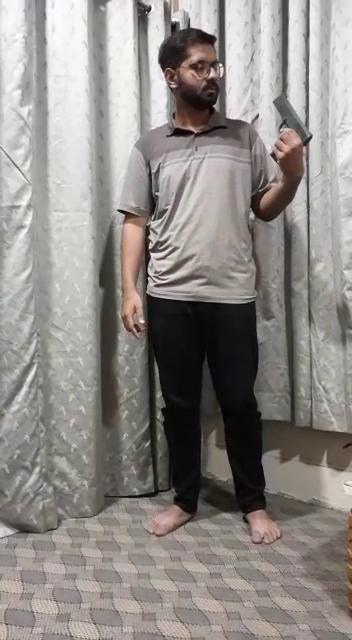criminal: (116, 26, 317, 549)
weapon: (267, 90, 317, 164)
